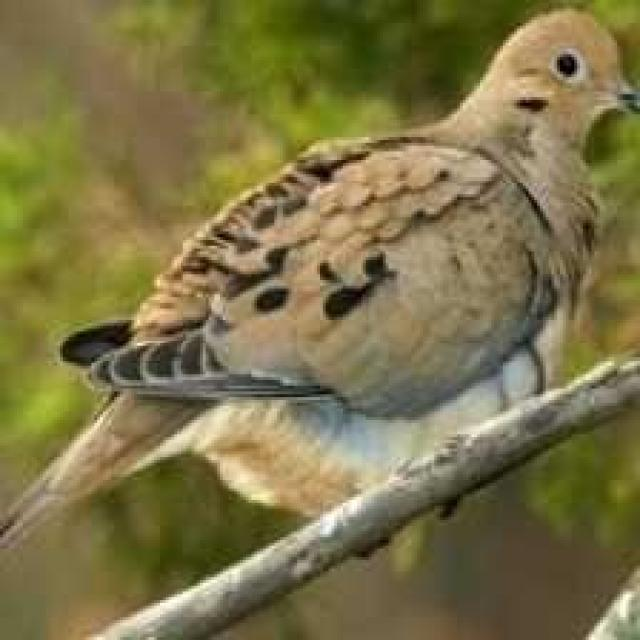bird: (5, 1, 640, 634)
